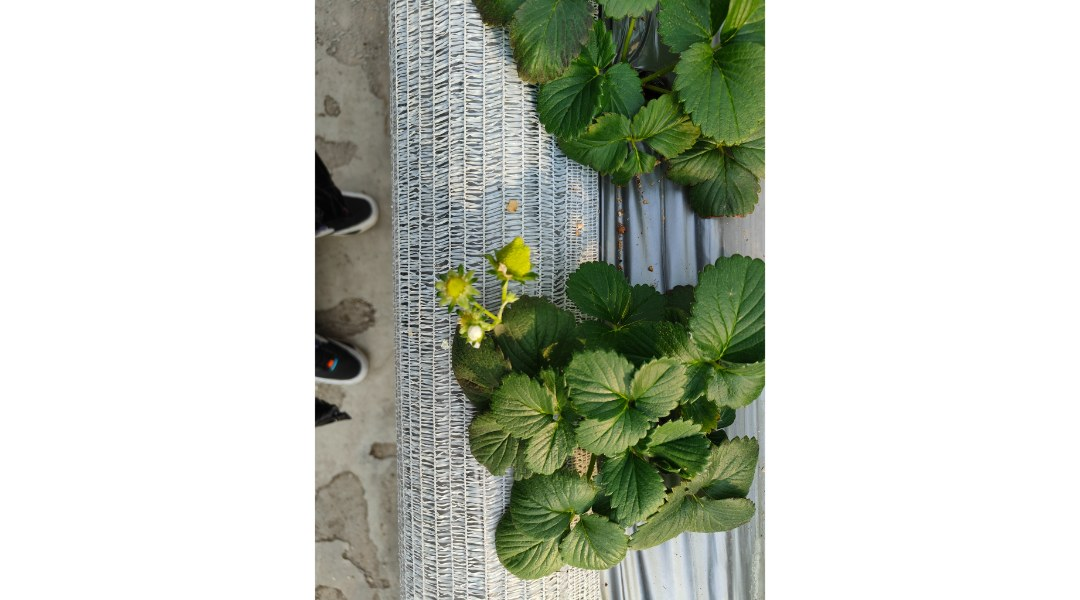berry: (427, 270, 474, 312), (494, 246, 543, 283)
